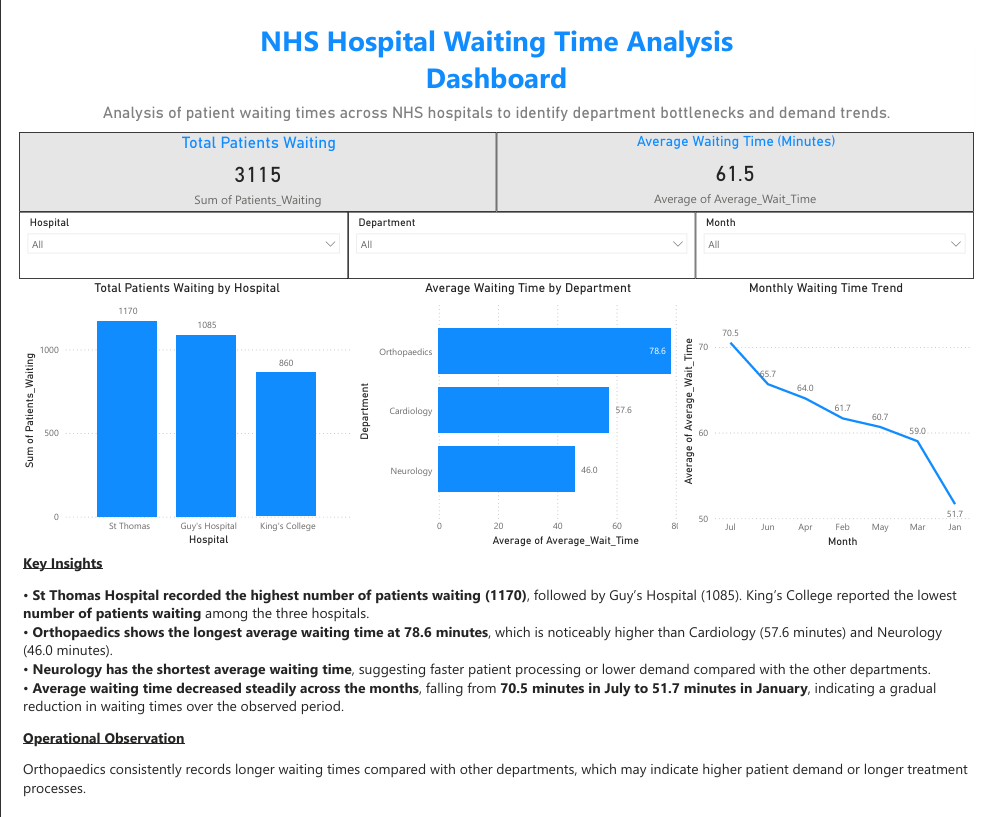

The page's visual inventory and layout, read from the dashboard file:
{"tool":"powerbi","page":{"name":"Page 1","canvas":[1280,1050],"ordinal":0},"visuals":[{"type":"textbox","title":"Analysis of patient waiting times across NHS hospitals to identify department bottlenecks and demand trends.","box":[0,114.1,1279.7,78.5],"z":0},{"type":"clusteredColumnChart","title":"Total Patients Waiting by Hospital","fields":{"Category":["nhs_waiting_times.Hospital"],"Y":["Sum(nhs_waiting_times.Patients_Waiting)"]},"box":[0,351.5,450.3,362.4],"z":1000,"group":"g4"},{"type":"textbox","box":[0,0,1280.3,111.3],"z":2000},{"type":"card","title":"Total Patients Waiting","fields":{"Values":["Sum(nhs_waiting_times.Patients_Waiting)"]},"box":[0,153.4,640.2,106.9],"z":2000,"group":"g3"},{"type":"clusteredBarChart","title":"Average Waiting Time by Department","fields":{"Category":["nhs_waiting_times.Department"],"Y":["Avg(nhs_waiting_times.Average_Wait_Time)"]},"box":[450,351,440,363],"z":2000,"group":"g4"},{"type":"lineChart","title":"Monthly Waiting Time Trend","fields":{"Category":["nhs_waiting_times.Month"],"Y":["Avg(nhs_waiting_times.Average_Wait_Time)"]},"box":[890,351,390,364],"z":3000,"group":"g4"},{"type":"textbox","box":[0,713.3,1278.6,337],"z":3000},{"type":"group","id":"g1","title":"Group 4","box":[0,153.4,1280.4,561.6],"z":3500},{"type":"card","title":"Average Waiting Time (Minutes)","fields":{"Values":["Avg(nhs_waiting_times.Average_Wait_Time)"]},"box":[640.2,153.4,640.2,106.9],"z":4000,"group":"g3"},{"type":"slicer","fields":{"Values":["nhs_waiting_times.Hospital"]},"box":[0,260,441,89.5],"z":4000,"group":"g2"},{"type":"group","id":"g2","title":"Group 2","box":[0,260,1280.4,89.5],"z":5000,"group":"g1"},{"type":"group","id":"g3","title":"Group 1","box":[0,153.4,1280.4,106.9],"z":6000,"group":"g1"},{"type":"slicer","fields":{"Values":["nhs_waiting_times.Month"]},"box":[907,260,373.5,89.5],"z":6000,"group":"g2"},{"type":"group","id":"g4","title":"Group 3","box":[0,351,1280,364],"z":6001,"group":"g1"},{"type":"slicer","fields":{"Values":["nhs_waiting_times.Department"]},"box":[441,260,465.9,89.5],"z":7000,"group":"g2"}]}

Visuals, with their boxes in screenshot pixels (x1, y1, x2, y2), scaled from the page's 1280x1050 canvas onto the 990x817 screenshot:
"Analysis of patient waiting times across NHS hospitals to identify department bottlenecks and demand trends." textbox: box=[0, 89, 989, 150]
"Total Patients Waiting by Hospital" clusteredColumnChart: box=[0, 274, 348, 555]
textbox: box=[0, 0, 989, 87]
"Total Patients Waiting" card: box=[0, 119, 495, 203]
"Average Waiting Time by Department" clusteredBarChart: box=[348, 273, 688, 556]
"Monthly Waiting Time Trend" lineChart: box=[688, 273, 989, 556]
textbox: box=[0, 555, 989, 816]
"Group 4" group: box=[0, 119, 989, 556]
"Average Waiting Time (Minutes)" card: box=[495, 119, 989, 203]
slicer - nhs_waiting_times.Hospital: box=[0, 202, 341, 272]
"Group 2" group: box=[0, 202, 989, 272]
"Group 1" group: box=[0, 119, 989, 203]
slicer - nhs_waiting_times.Month: box=[702, 202, 989, 272]
"Group 3" group: box=[0, 273, 989, 556]
slicer - nhs_waiting_times.Department: box=[341, 202, 701, 272]
